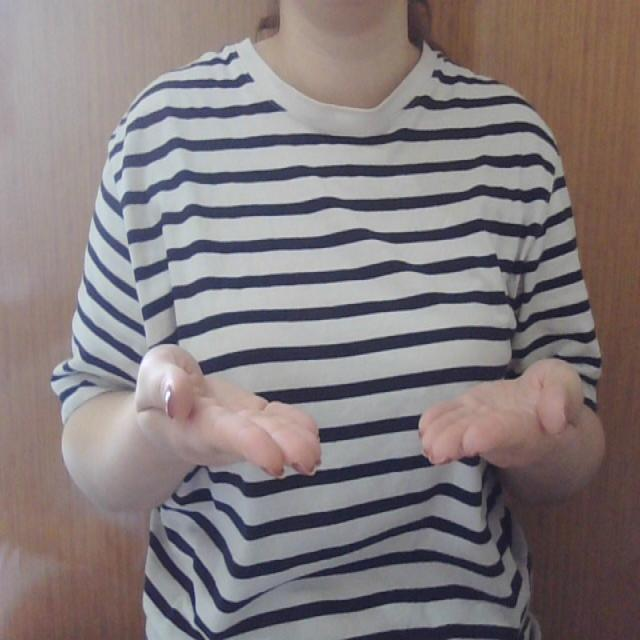Evet: (113, 326, 608, 480)
